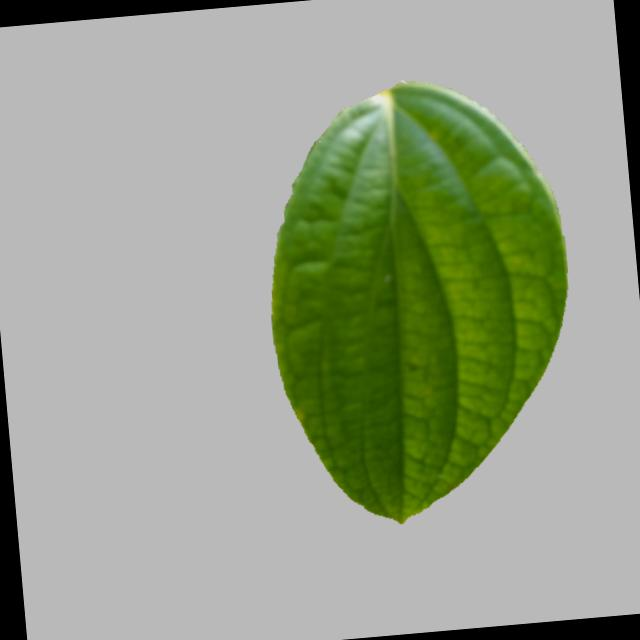healthy: (240, 62, 590, 539)
